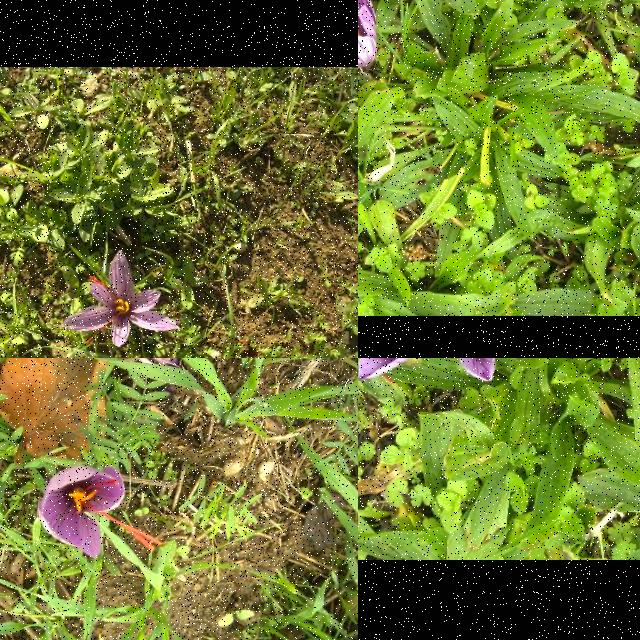flower: (62, 250, 180, 348), (38, 467, 164, 558), (457, 358, 554, 382)
